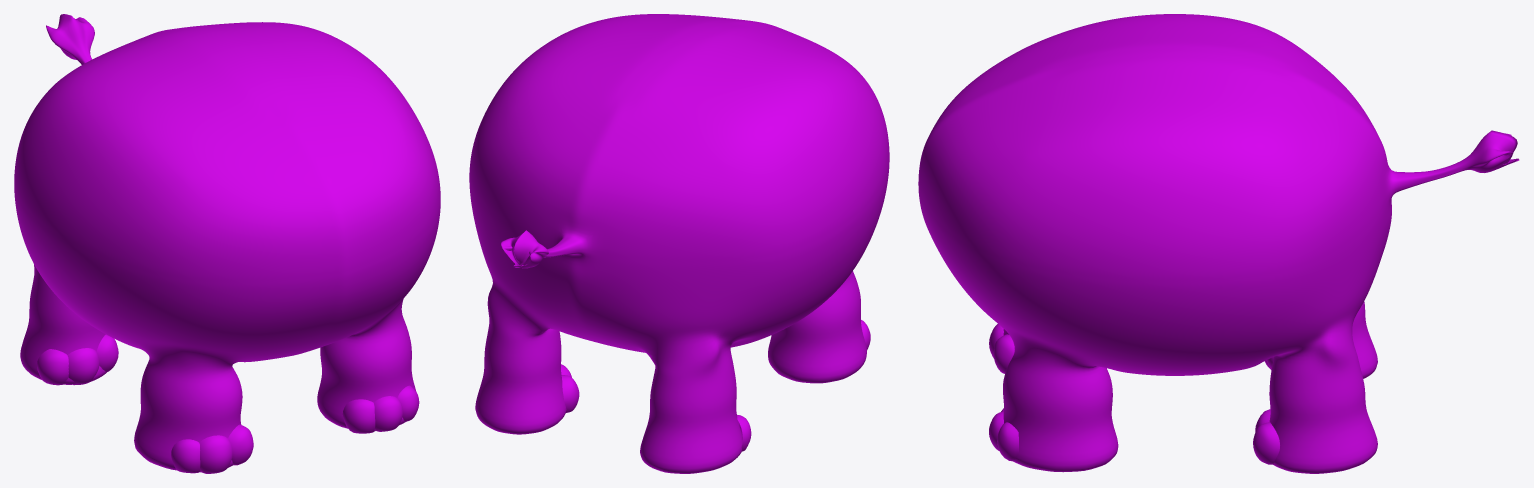
The model's file is zone4-rhino-purple.gltf.
3 views of the same model, side by side, from view 1: azimuth 30°, elevation 25°; view 2: azimuth 150°, elevation 25°; view 3: azimuth 270°, elevation 25° (orthographic). The views are drawn at different scales.
Parts seen in each view (by area): view 1: Coprs-Pates; view 2: Coprs-Pates; view 3: Coprs-Pates.
Boxes of the visible parts, bbox=[...] form: Coprs-Pates: bbox=[14, 14, 440, 473]; Coprs-Pates: bbox=[469, 14, 889, 473]; Coprs-Pates: bbox=[918, 14, 1519, 473].
Size of the model in its own units: 2.61 by 2.43 by 3.66.
